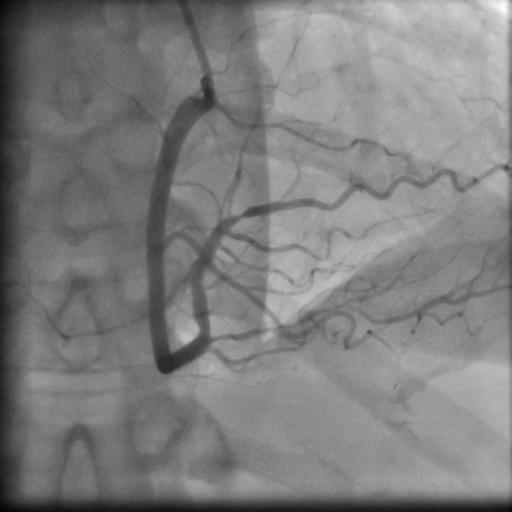Stenosis: (228, 205, 252, 226)
